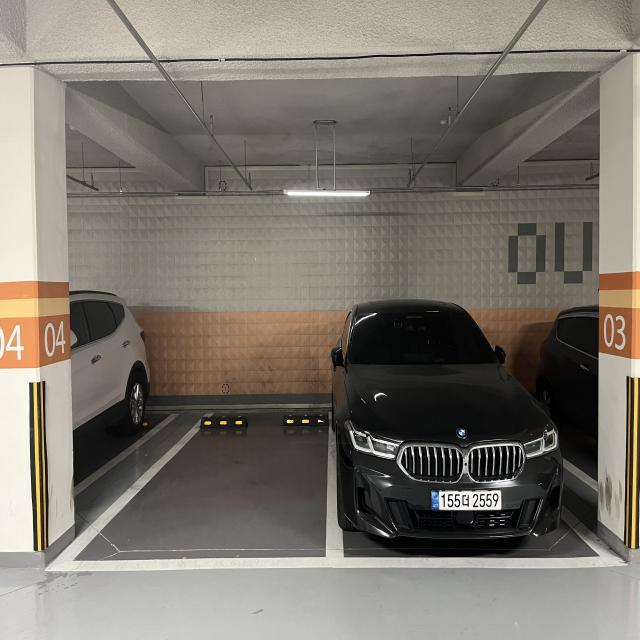empty: (65, 400, 327, 568)
occupied: (329, 278, 591, 578)
